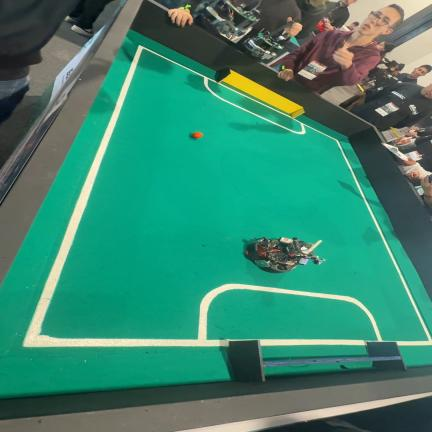cancha: (0, 31, 431, 398)
limites: (23, 46, 431, 347)
pelota: (192, 132, 202, 139)
porteria: (227, 340, 406, 382), (215, 69, 304, 118), (245, 237, 324, 274)
robot: (245, 237, 325, 273), (194, 0, 260, 41), (242, 22, 292, 59)
